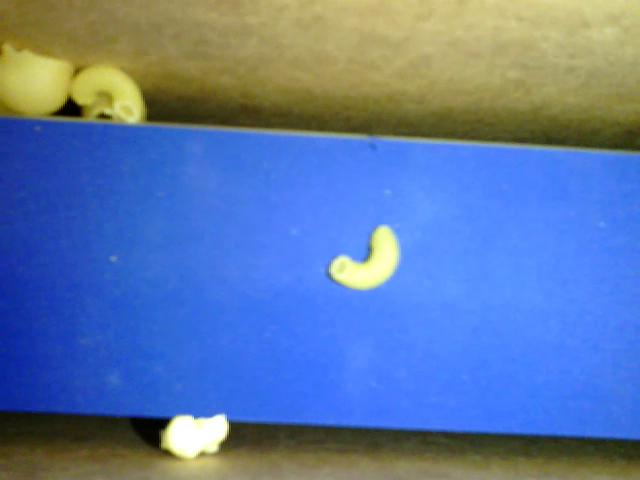elbow: (328, 220, 400, 293), (72, 64, 146, 122)
shell: (1, 44, 77, 118)
